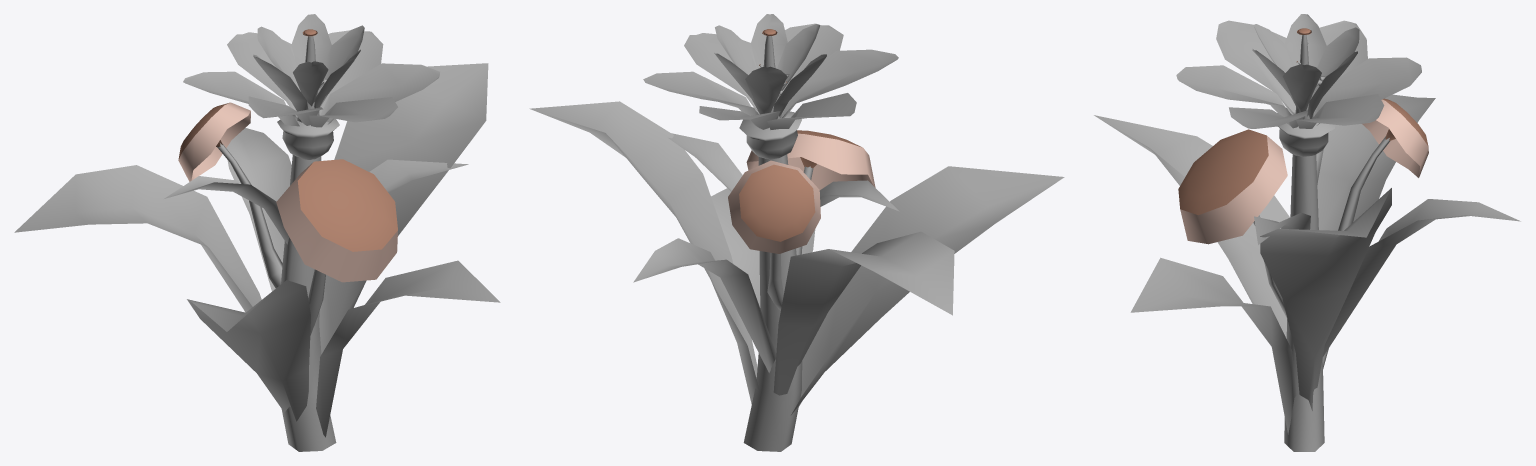
Rendered from MushFlower_Stage03.fbx.
3 renders of one model, left to right at view 1: azimuth 30°, elevation 25°; view 2: azimuth 150°, elevation 25°; view 3: azimuth 270°, elevation 25°, orthographic.
Parts seen in each view (by area): view 1: MushroomFlower_Stage03; view 2: MushroomFlower_Stage03; view 3: MushroomFlower_Stage03.
Boxes of the visible parts, box(x1,y1,x2,y2) form: MushroomFlower_Stage03: box(14, 14, 500, 451); MushroomFlower_Stage03: box(529, 14, 1064, 451); MushroomFlower_Stage03: box(1094, 14, 1520, 451).
Bounding box in the file's own units: 35.65 × 31.34 × 29.54.
